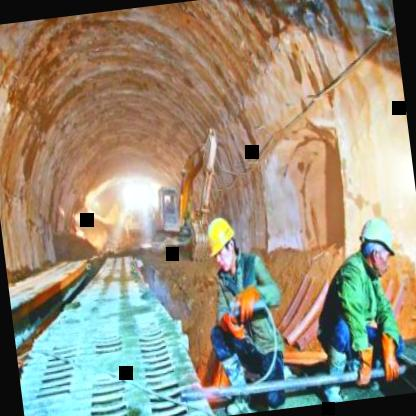helmet: (356, 212, 402, 278), (204, 210, 242, 276)
